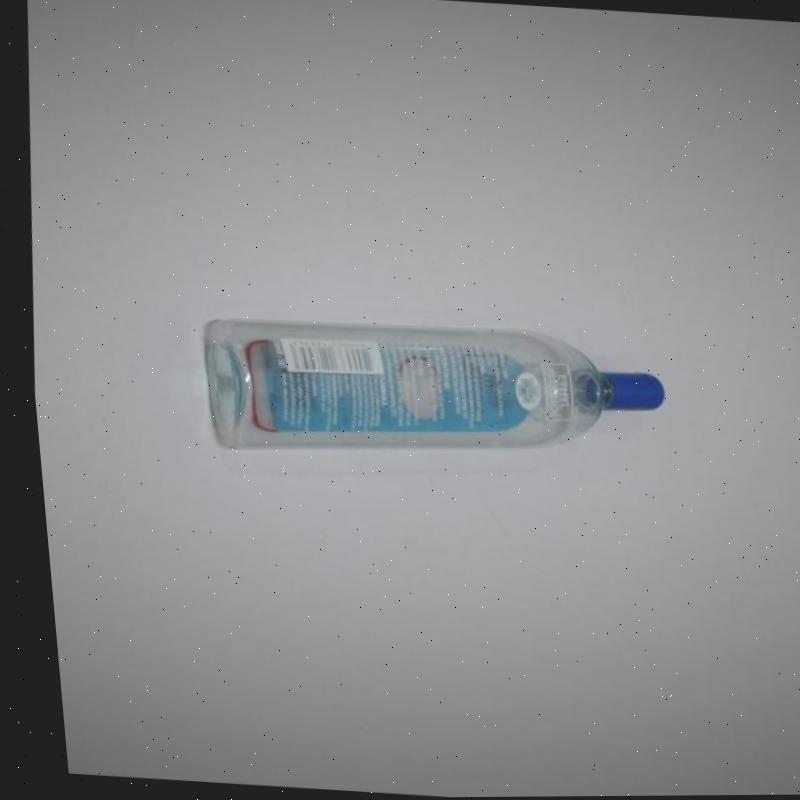botella: (186, 309, 668, 482)
